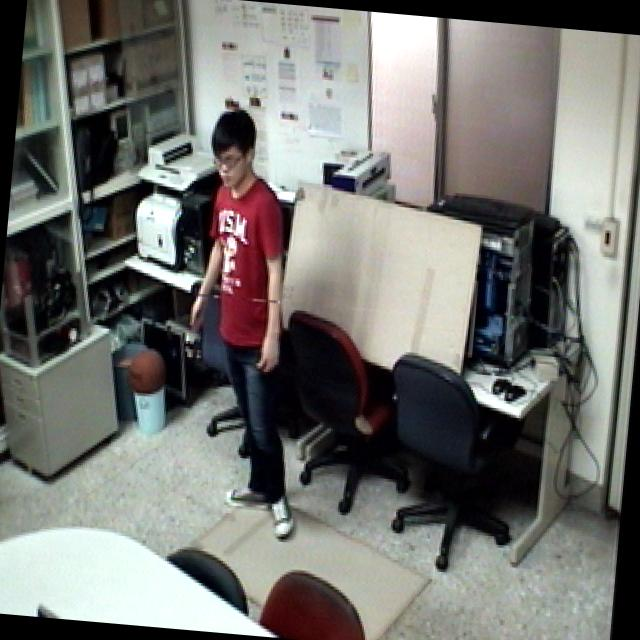stand: (162, 104, 331, 543)
